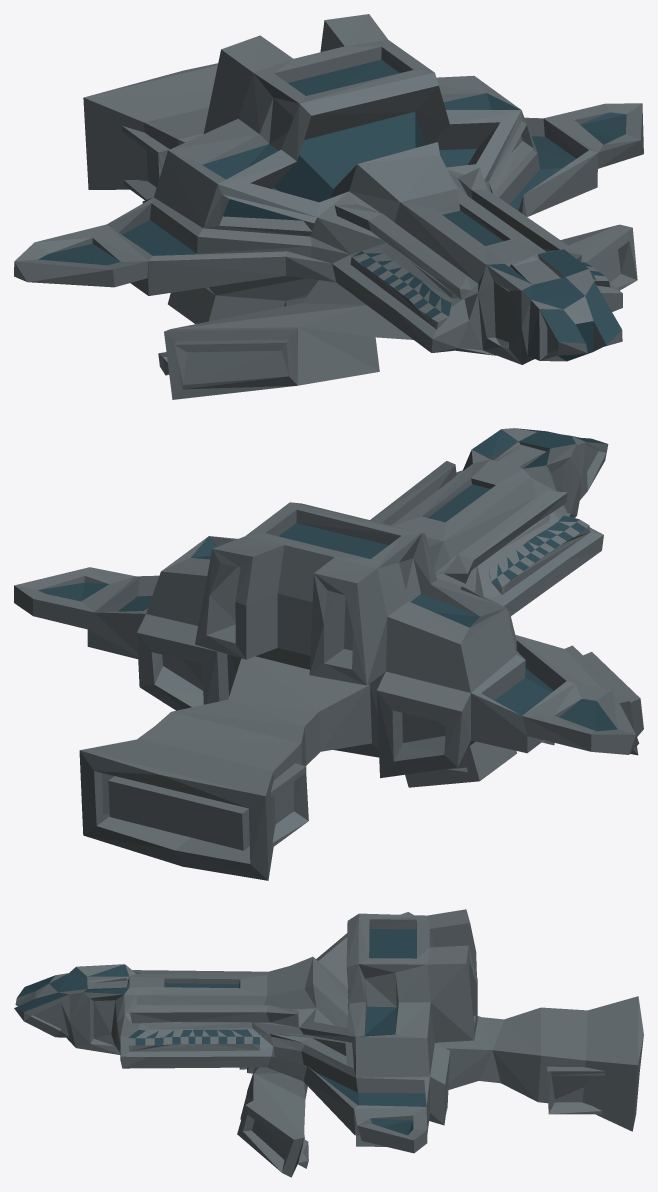
The model's file is bomber.glb.
3 views of the same model, one above another, from view 1: azimuth 30°, elevation 25°; view 2: azimuth 150°, elevation 25°; view 3: azimuth 270°, elevation 25° (orthographic). The views are drawn at different scales.
Parts seen in each view (by area): view 1: Cube; view 2: Cube; view 3: Cube.
Part boxes in pixels (bbox=[...]): Cube: bbox=[14, 14, 643, 399]; Cube: bbox=[14, 428, 643, 880]; Cube: bbox=[14, 909, 643, 1177].
Size of the model in its own units: 20 by 7.03 by 23.21.
